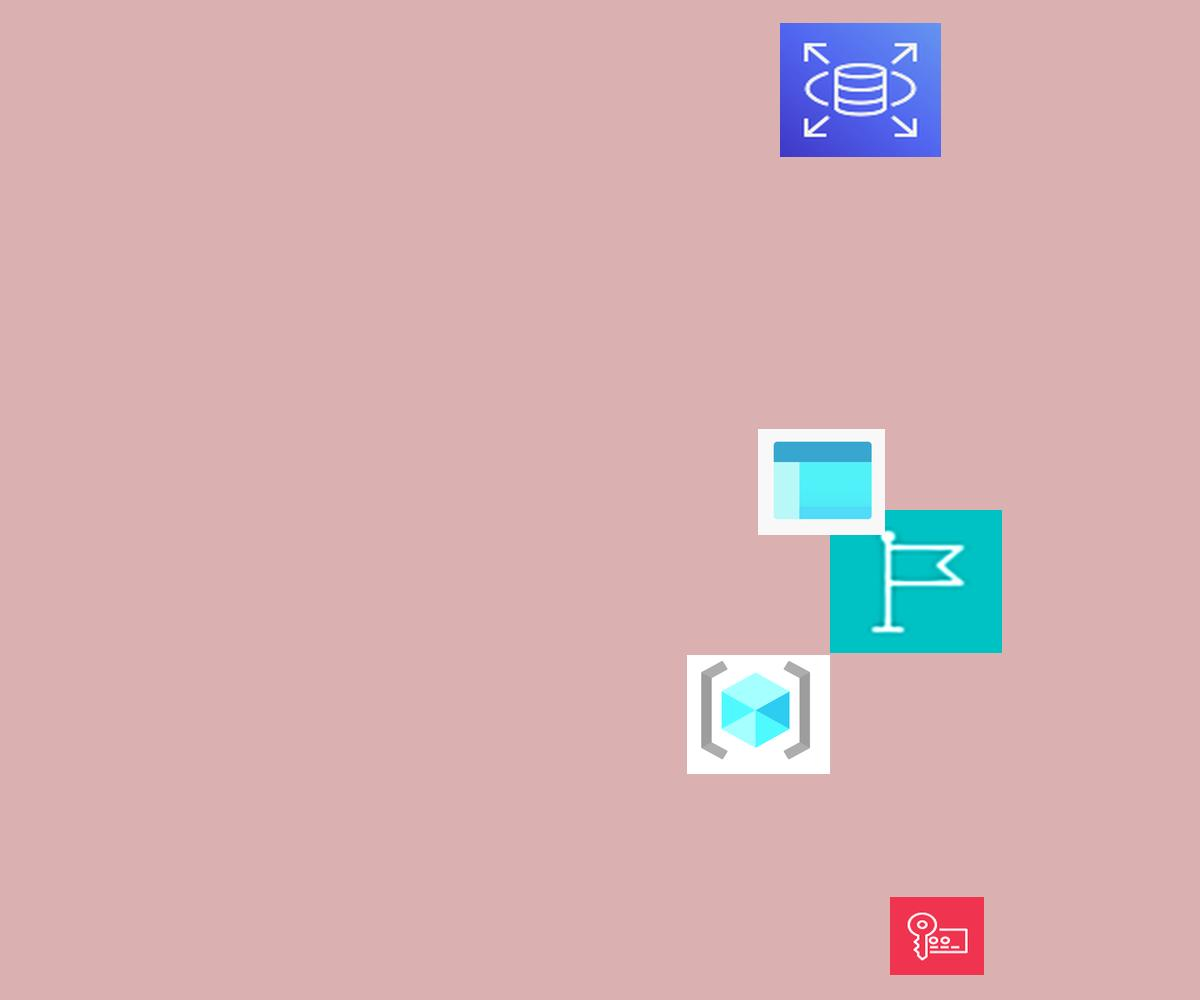AWS-Key-Management-Service: (890, 897, 984, 975)
AWS-RDS: (780, 23, 941, 157)
AWS-Region: (830, 510, 1002, 653)
Azure_management-portal: (758, 429, 885, 535)
Azure_resource_group: (687, 655, 830, 774)
